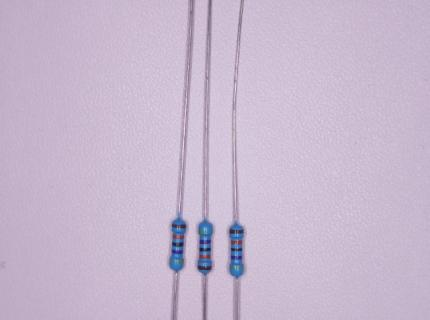Black band: (199, 247, 211, 252), (172, 242, 184, 247), (230, 248, 243, 251)
Brown band: (172, 223, 186, 229), (229, 229, 244, 234), (198, 265, 212, 270)
Orange band: (172, 234, 184, 240), (231, 240, 242, 245), (199, 255, 211, 259)
Violet band: (231, 255, 243, 260), (171, 250, 183, 254), (199, 240, 211, 244)
Yellow band: (169, 260, 184, 264), (229, 266, 244, 270), (199, 231, 213, 234)
